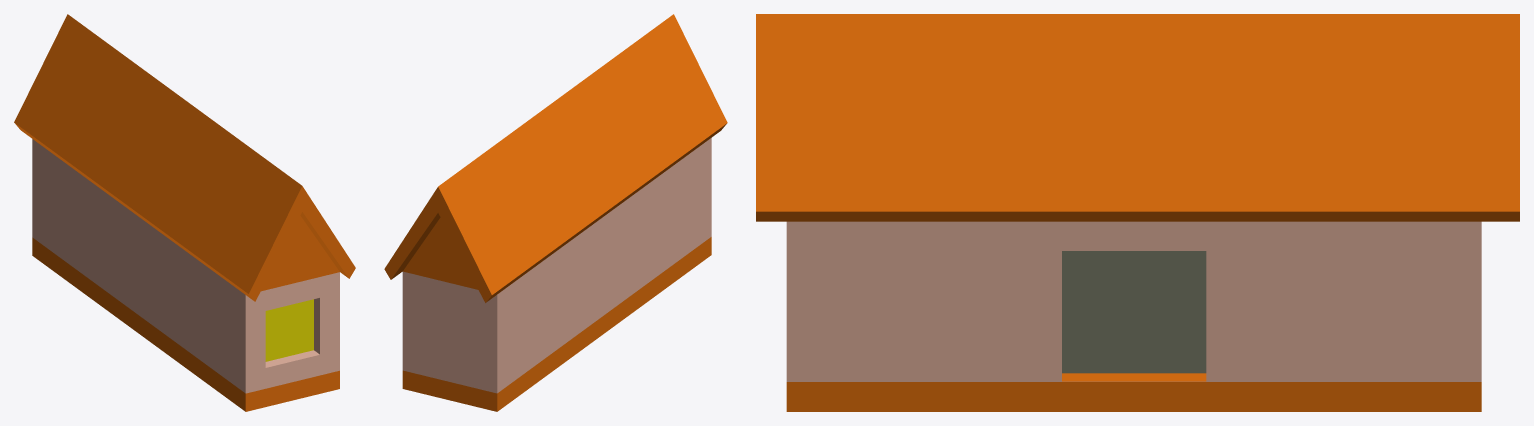
The model's file is House.fbx.
3 renders of one model, left to right at view 1: azimuth 30°, elevation 25°; view 2: azimuth 150°, elevation 25°; view 3: azimuth 270°, elevation 25°, orthographic. The views are drawn at different scales.
Parts seen in each view (by area): view 1: Cube; view 2: Cube; view 3: Cube.
Part boxes in pixels (<box>): Cube: <box>14,14,355,411</box>; Cube: <box>384,14,727,411</box>; Cube: <box>756,14,1519,411</box>.
Size of the model in its own units: 228 by 450 by 864.
